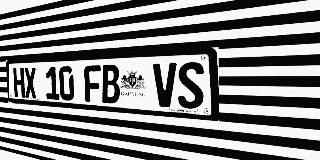0: (59, 66, 74, 101)
1: (45, 67, 60, 100)
B: (101, 64, 120, 104)
F: (84, 65, 102, 103)
H: (13, 68, 25, 98)
S: (177, 62, 204, 110)
V: (153, 63, 177, 108)
X: (24, 67, 37, 98)
